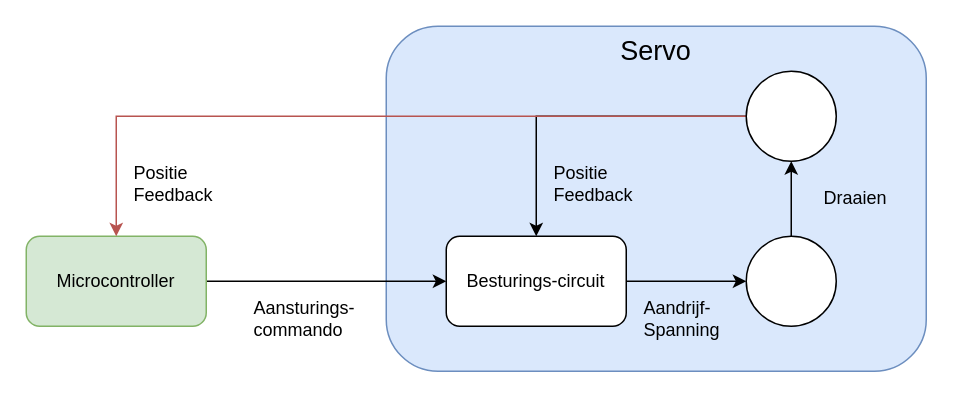
Some shapes in this 953 by 398 pixel diagram are drawn without their labels. The shapes that lost their labels are listed below. From the top down, each one's centre as x and y in pixels, then its label:
At (790,115): "Potmeter".
At (790,280): "Motor".
